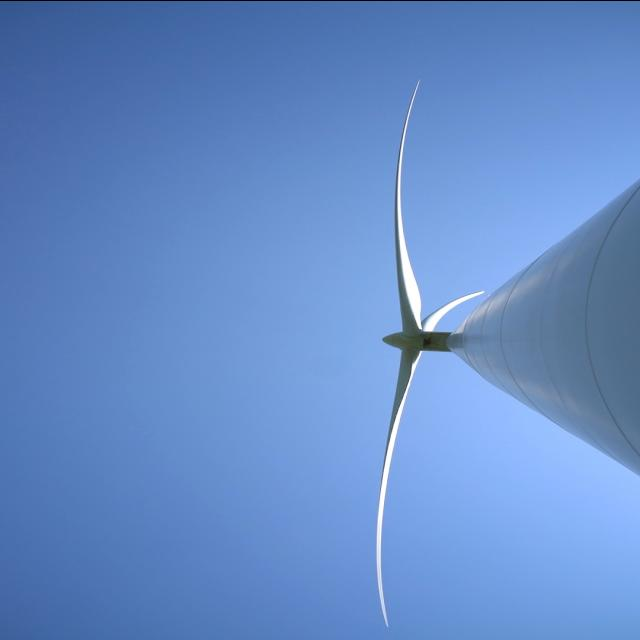blade 1: (426, 268, 489, 318)
blade 2: (355, 367, 413, 627)
blade 3: (386, 48, 456, 252)
